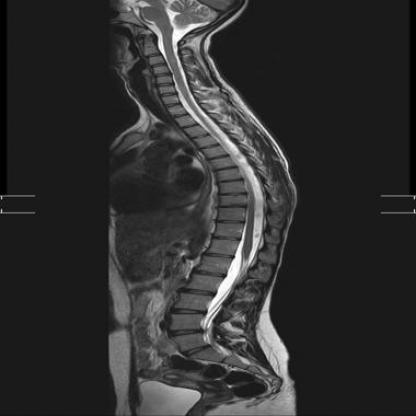Disc Bulgerotation: (217, 202, 246, 212), (218, 188, 245, 198), (216, 175, 242, 185), (153, 69, 172, 79)
